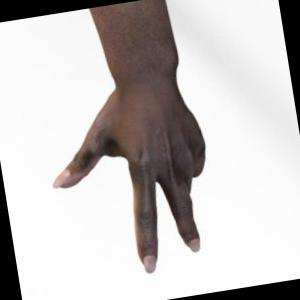scissors: (53, 0, 205, 272)
